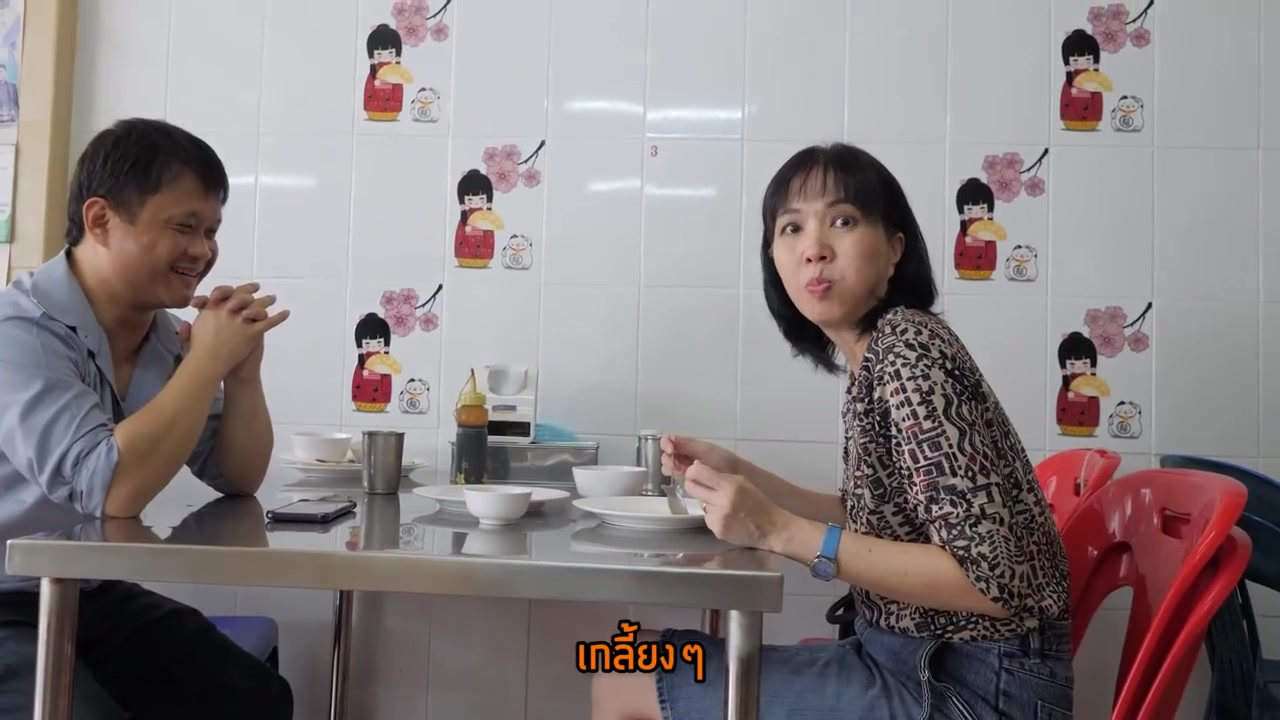text-label: (574, 618, 707, 689)
